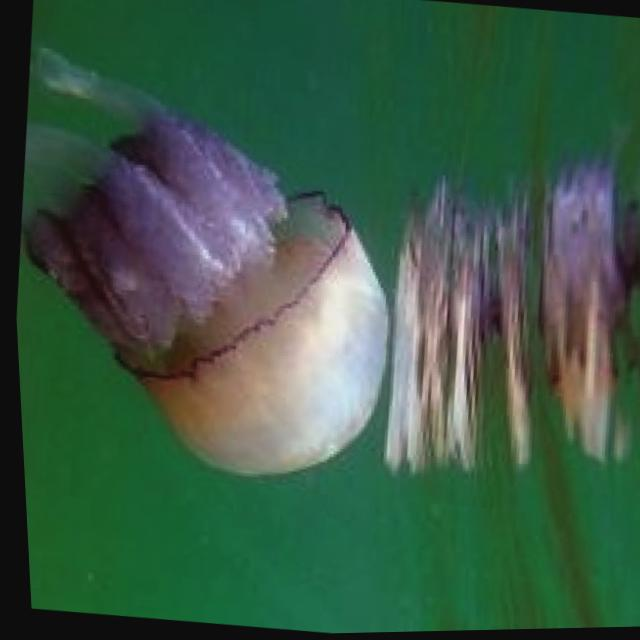Box-jellyfish: (2, 40, 421, 498)
